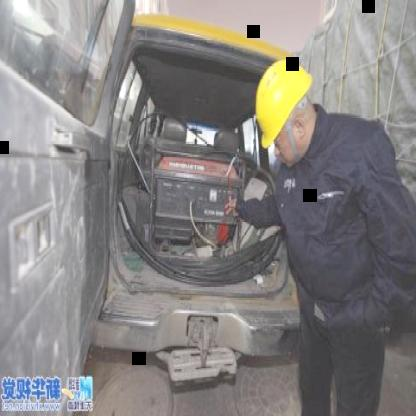helmet: (250, 51, 326, 170)
